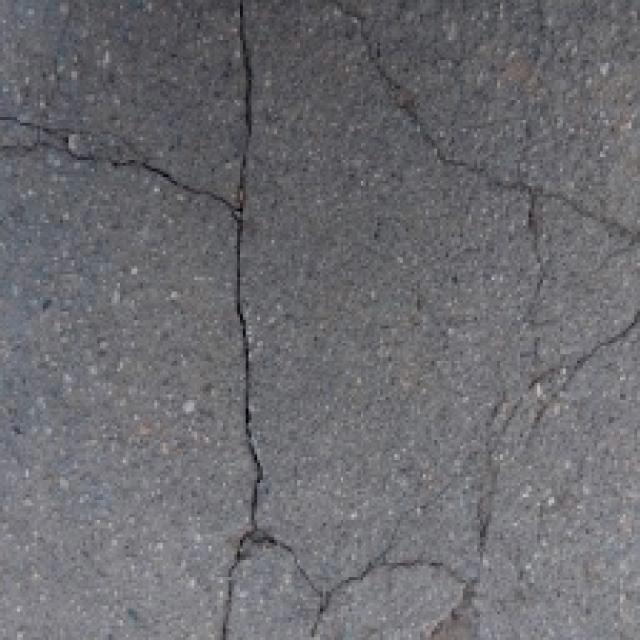crack: (180, 0, 296, 640)
